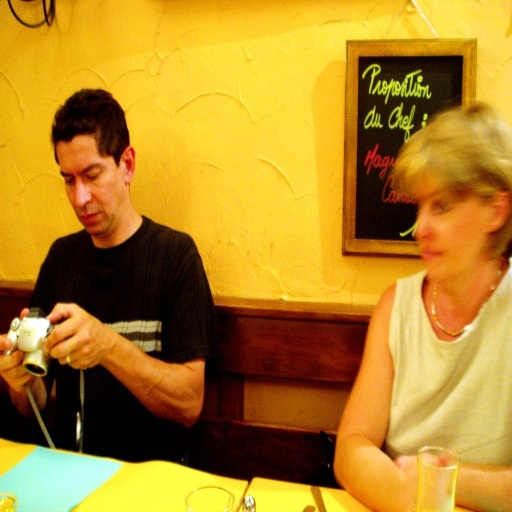hand: (28, 301, 134, 383), (0, 308, 35, 392), (393, 451, 437, 485)
